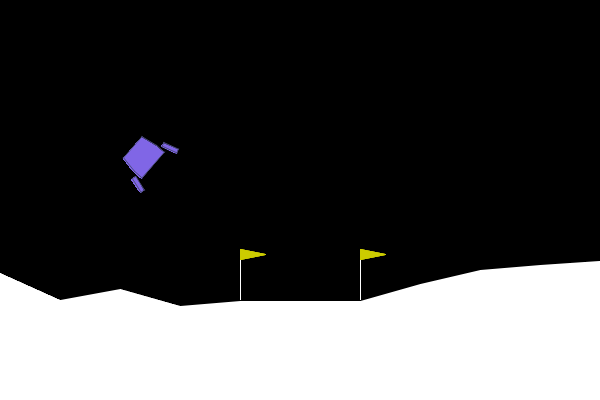lander: (111, 124, 181, 195)
